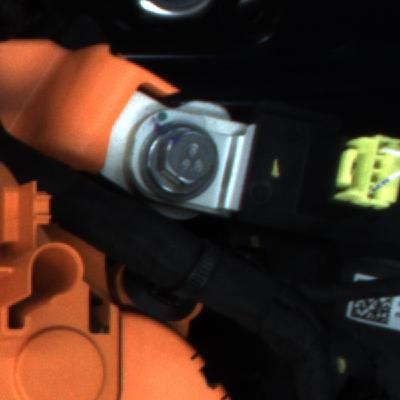nut_b: (132, 117, 235, 203)
